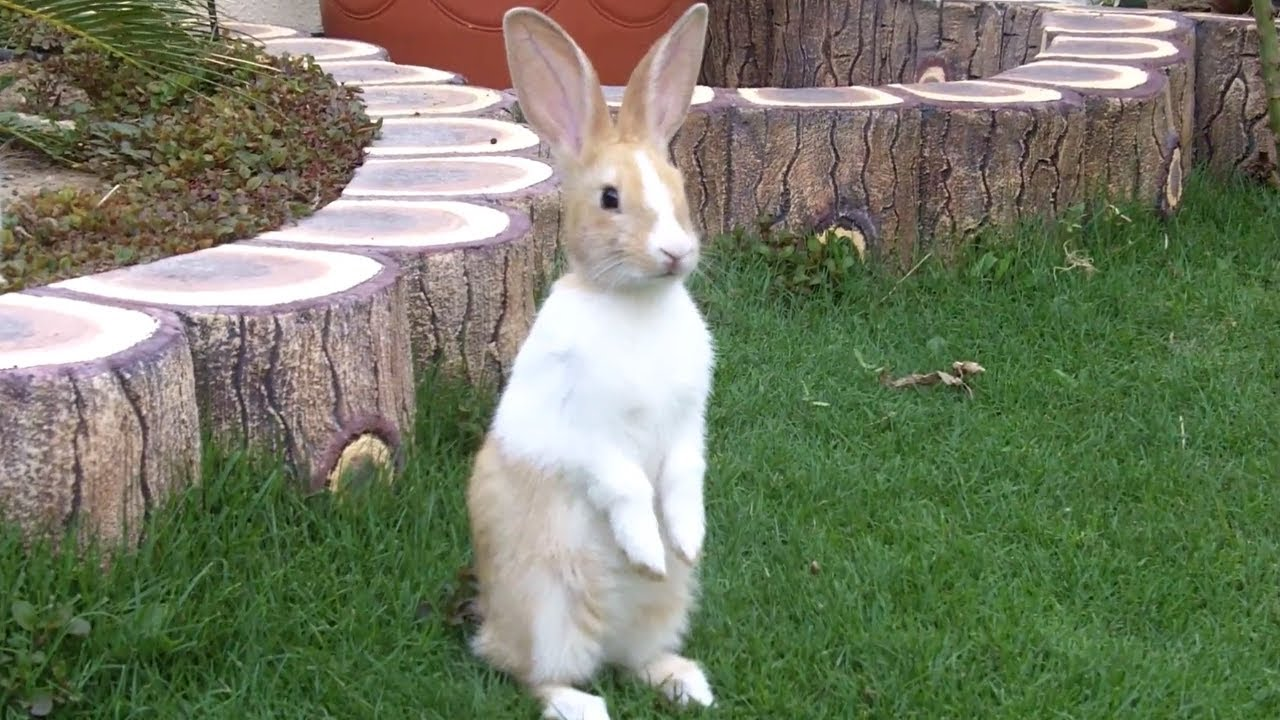bunny: (431, 1, 781, 718)
